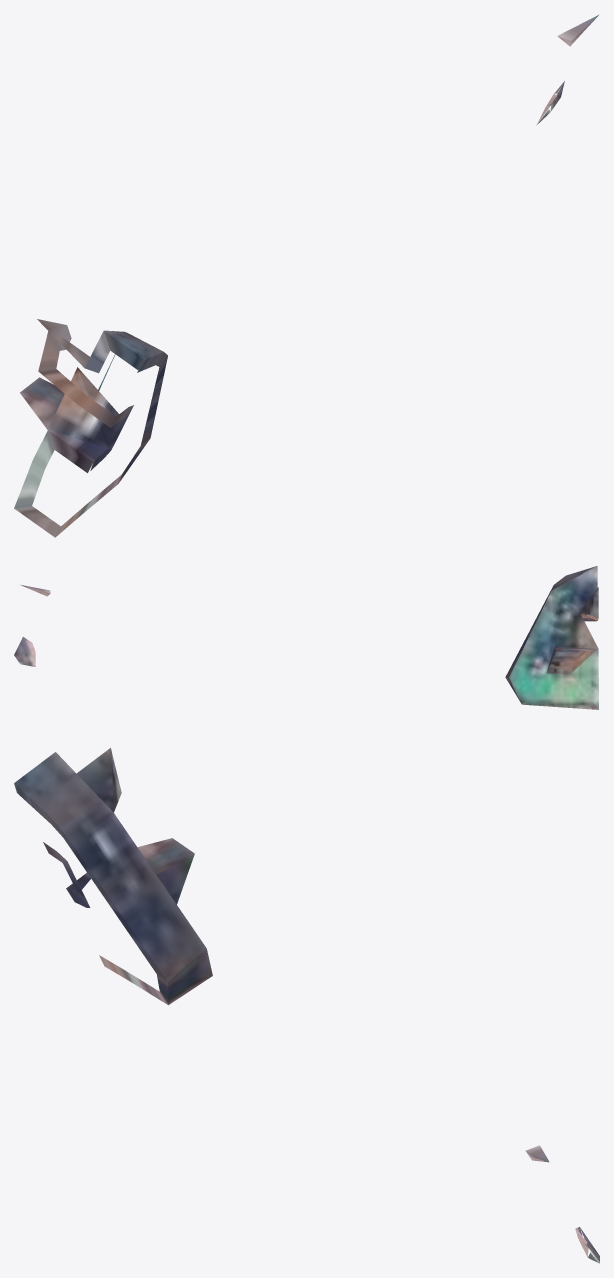
3 views of the same model, one above another, from view 1: azimuth 30°, elevation 25°; view 2: azimuth 150°, elevation 25°; view 3: azimuth 270°, elevation 25° (orthographic). The views are drawn at different scales.
Size of the model in its own units: 107 by 28.76 by 67.18.
Materials: 1 (1 with a texture image).
